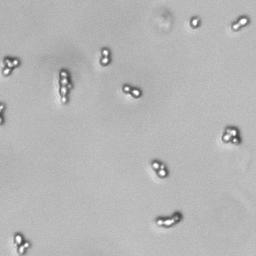budding: (154, 212, 182, 228), (13, 232, 30, 256), (150, 159, 168, 178), (121, 84, 142, 99), (231, 16, 249, 31), (99, 48, 111, 66), (189, 16, 201, 29)
cluster: (58, 69, 73, 105), (2, 54, 22, 78), (221, 126, 242, 146)
